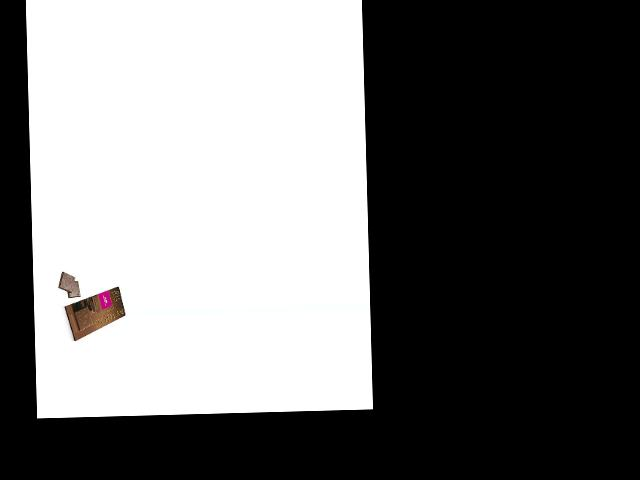chocolate: (62, 285, 127, 341)
